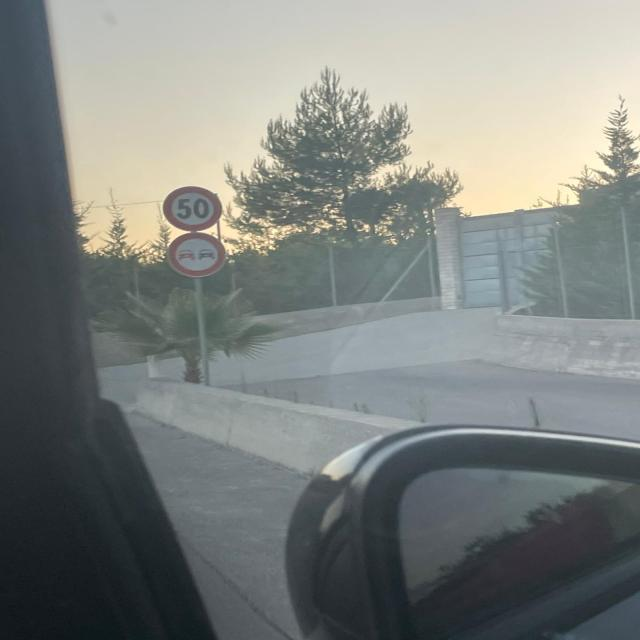forb_overtake: (167, 232, 226, 278)
forb_speed_over_50: (162, 186, 223, 232)
